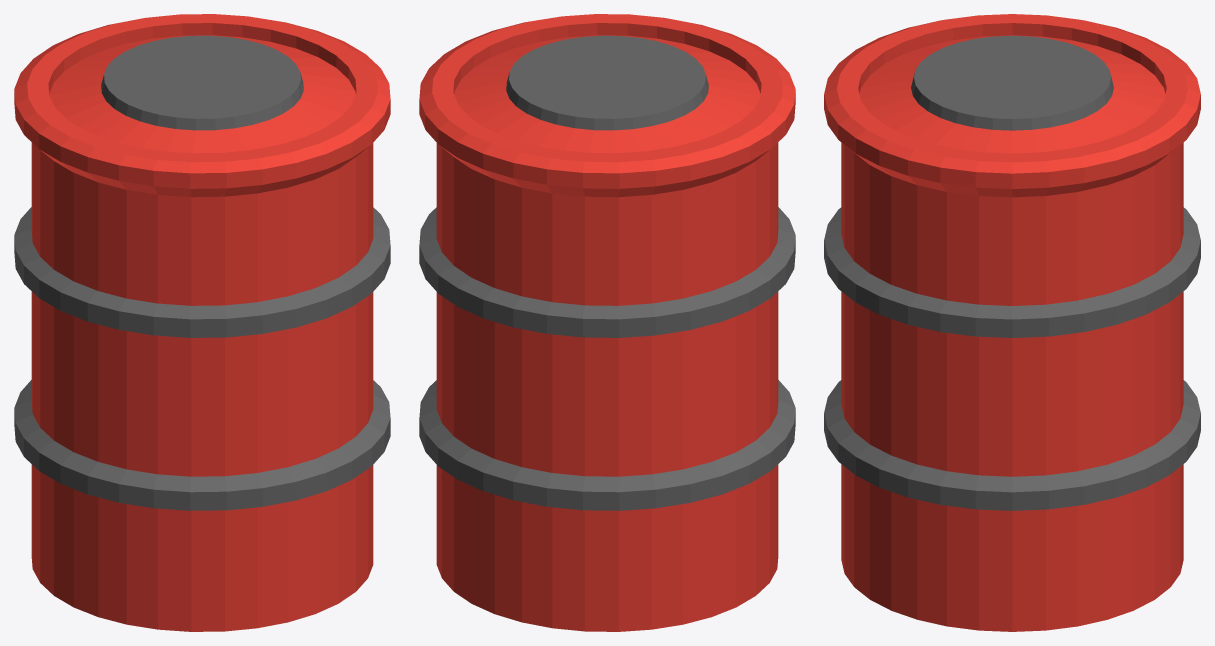
The model's file is Barrel2.fbx.
3 views of the same model, side by side, from view 1: azimuth 30°, elevation 25°; view 2: azimuth 150°, elevation 25°; view 3: azimuth 270°, elevation 25° (orthographic).
Visible parts, largest first — view 1: Cylinder; view 2: Cylinder; view 3: Cylinder.
Boxes of the visible parts, left/top/right/bottom form: Cylinder: left=14, top=14, right=390, bottom=631; Cylinder: left=419, top=14, right=795, bottom=631; Cylinder: left=824, top=14, right=1200, bottom=631.
Size of the model in its own units: 110 by 155 by 110.
